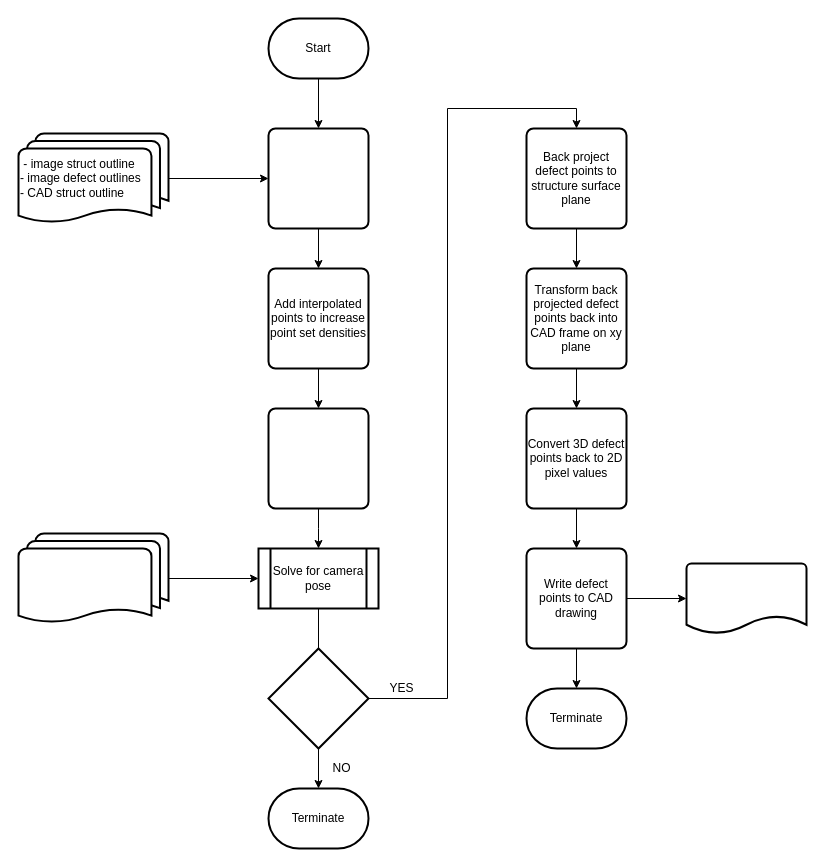
Image size: 824x866. Some labels were removed from this diagram. The centre of each missing label's shape, as x and y in pixels:
"- Solution configuration - Initial transforms" goes at point 93,578.
"Annotated CAD drawing(s)" goes at point 746,598.
"Convert 2D point sets to 3D point clouds on xy-plane" goes at point 318,458.
"Read labelled image and CAD data" goes at point 318,178.
"Valid Solution?" goes at point 318,698.
